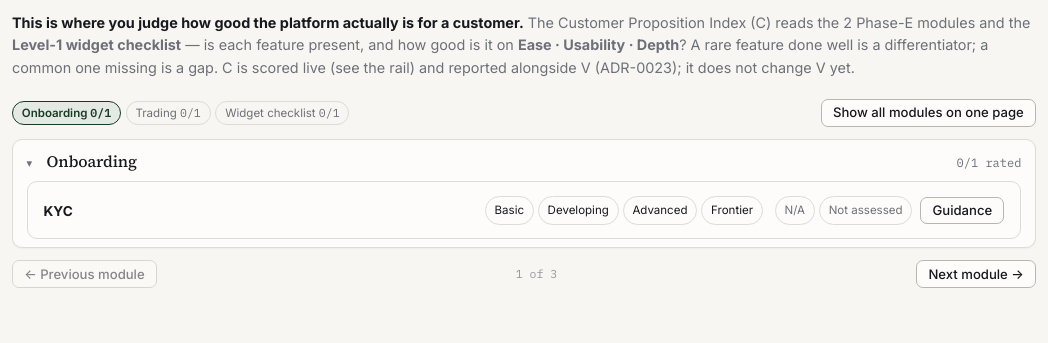
Test: Customer Proposition step paging (GRS-0181) › reaches the widget checklist by paging to the end
Step 1. Click the button "Widget checklist 0/1" → {"x": 282, "y": 113}, box 215,101 -> 349,125
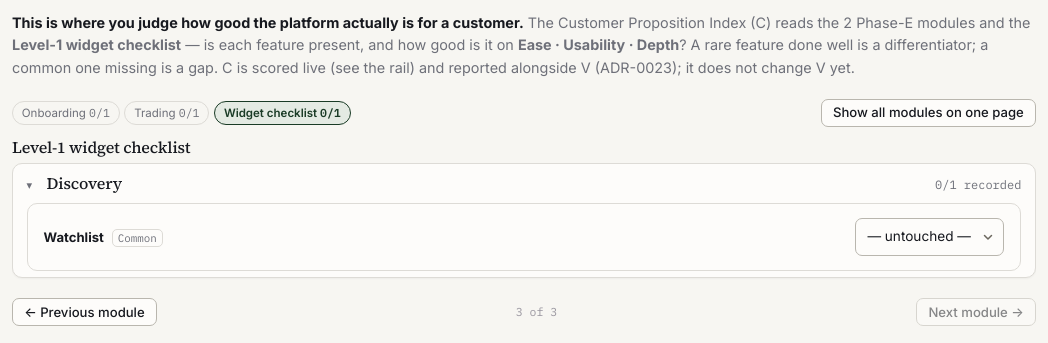
Check: the heading "Level-1 widget checklist" is shown, box 12,136 -> 190,158
Check: the text "KYC" is gone
